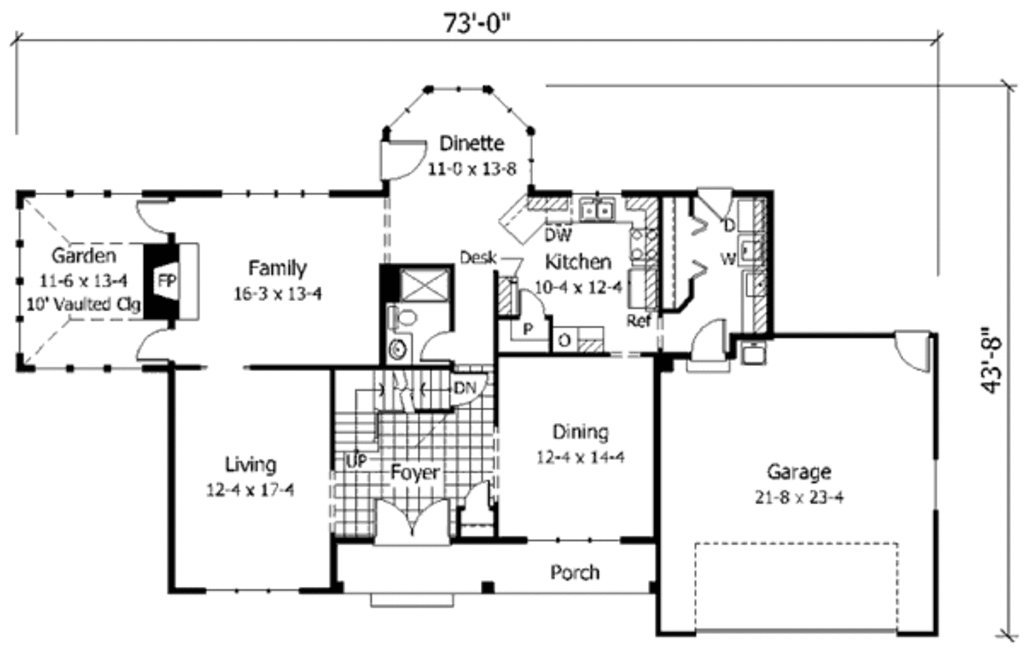door: (369, 496, 450, 547), (377, 141, 427, 185), (889, 328, 931, 373), (689, 318, 730, 362), (132, 197, 172, 237), (694, 187, 737, 223), (418, 330, 456, 363), (136, 325, 170, 360), (463, 480, 491, 509)
large_sink: (381, 300, 420, 332)
small_sink: (382, 332, 416, 364)
twin_sink: (577, 194, 612, 221)
windows: (217, 186, 333, 200), (523, 530, 624, 546), (26, 187, 141, 200), (195, 585, 301, 596)
